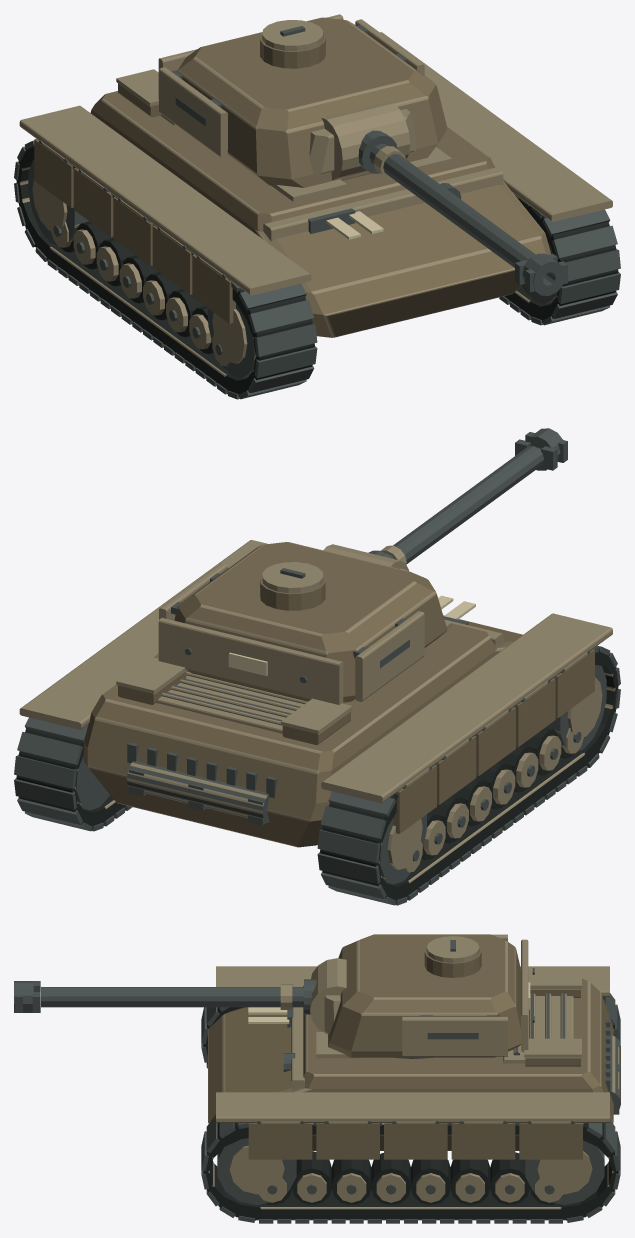
File: palisade.glb
3 renders of one model, top to bottom at view 1: azimuth 30°, elevation 25°; view 2: azimuth 150°, elevation 25°; view 3: azimuth 270°, elevation 25°, orthographic. The views are drawn at different scales.
Parts seen in each view (by area): view 1: Hull, Turret, Barrel; view 2: Hull, Turret, Barrel; view 3: Hull, Turret, Barrel.
Boxes of the visible parts, x1=… form: Hull: x1=14, y1=32, x2=620, y2=399; Turret: x1=158, y1=14, x2=447, y2=187; Barrel: x1=321, y1=101, x2=567, y2=295; Hull: x1=14, y1=540, x2=620, y2=905; Turret: x1=158, y1=542, x2=447, y2=704; Barrel: x1=323, y1=428, x2=567, y2=571; Hull: x1=201, y1=966, x2=620, y2=1223; Turret: x1=324, y1=934, x2=534, y2=1058; Barrel: x1=14, y1=958, x2=346, y2=1034.
Bounding box in the file's own units: 3.68 × 2.29 × 6.19.
